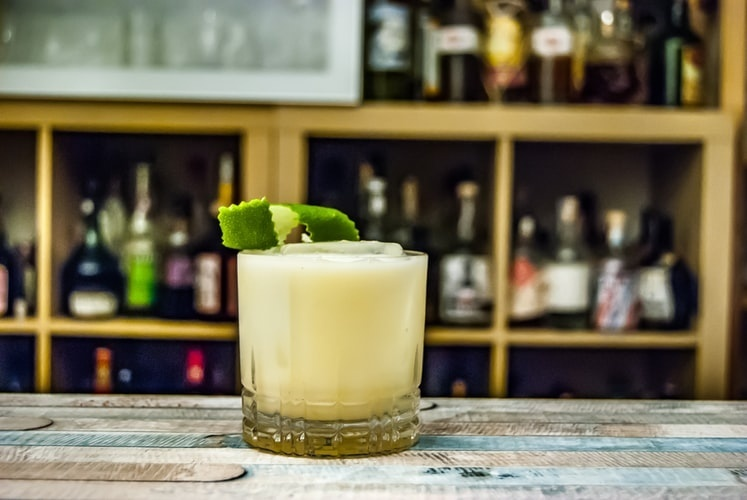whiskey: (229, 243, 425, 452)
